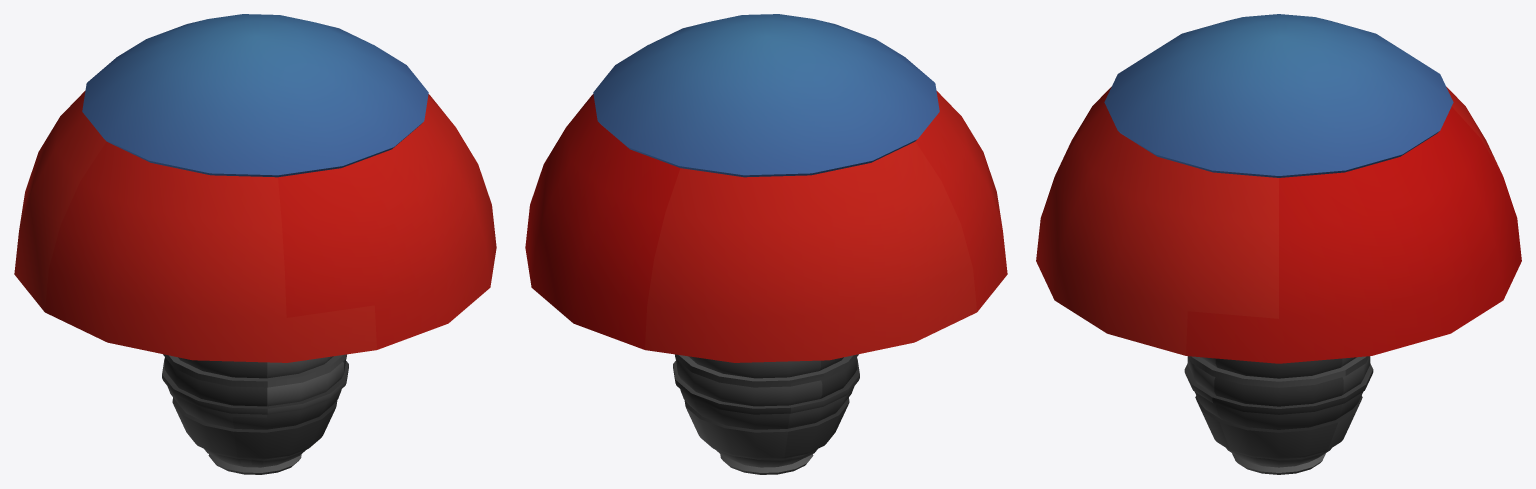
File: bouncing pad .fbx
3 views of the same model, side by side, from view 1: azimuth 30°, elevation 25°; view 2: azimuth 150°, elevation 25°; view 3: azimuth 270°, elevation 25° (orthographic).
Parts seen in each view (by area): view 1: Sphere; view 2: Sphere; view 3: Sphere.
Part boxes in pixels (box(x1,y1,x2,y2)): Sphere: box(14, 14, 496, 474); Sphere: box(525, 14, 1007, 474); Sphere: box(1036, 14, 1521, 474).
Size of the model in its own units: 2 by 1.9 by 2.
Materials: 1 (1 with a texture image).
